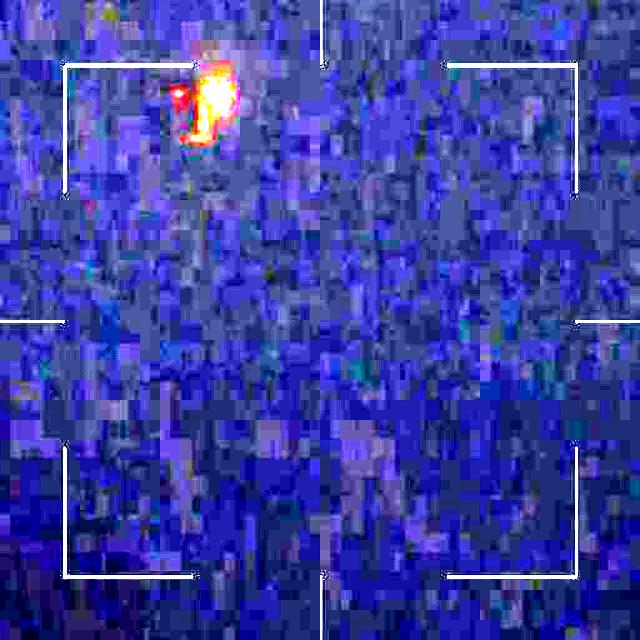bird: (161, 74, 236, 148)
